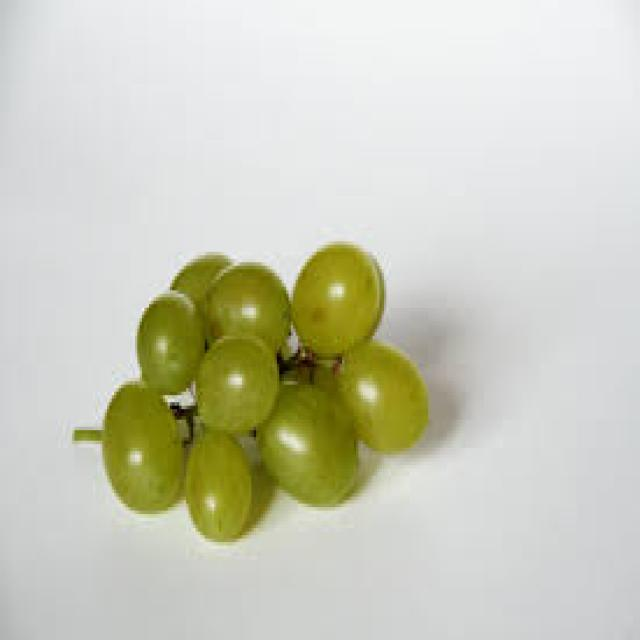food_waste: (74, 241, 426, 539)
